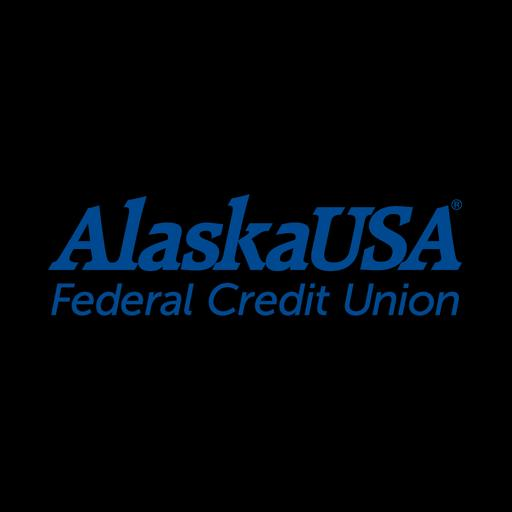Alaska USA Federal Credit Union: (0, 149, 512, 363)
